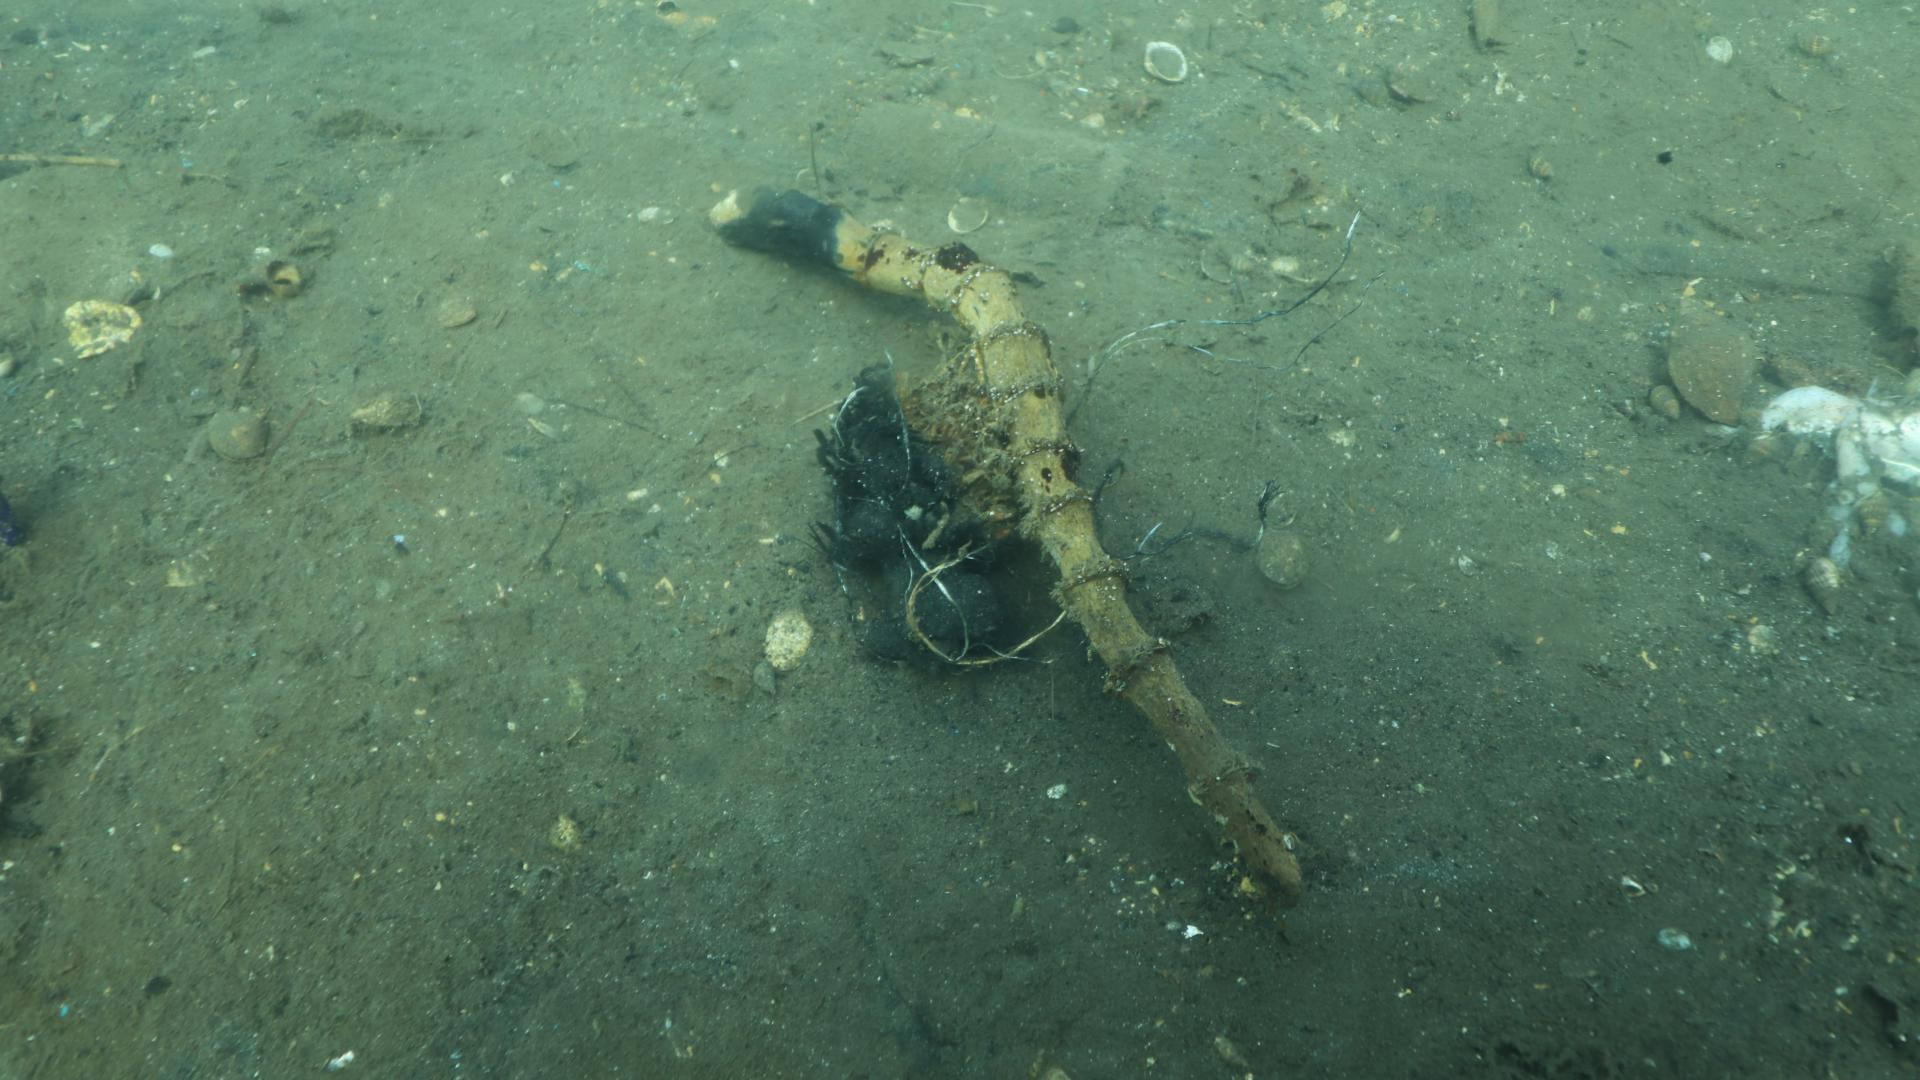wood: (705, 183, 1305, 909)
